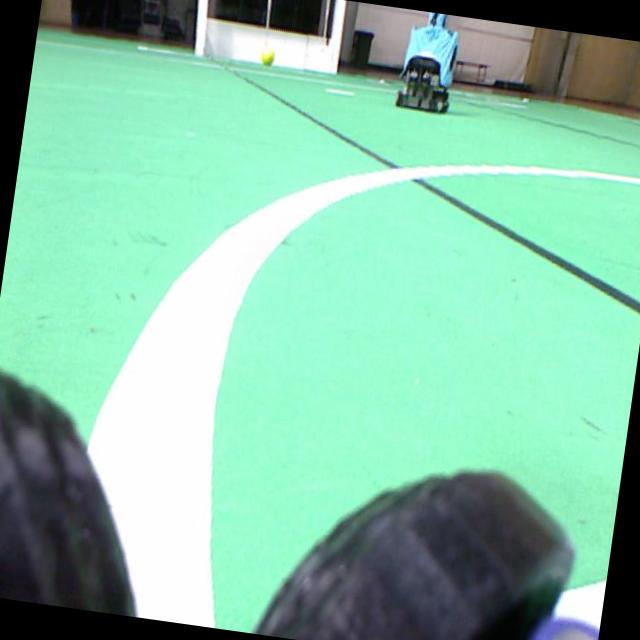ball: (261, 46, 274, 65)
goal: (329, 0, 346, 73), (194, 0, 208, 56)
